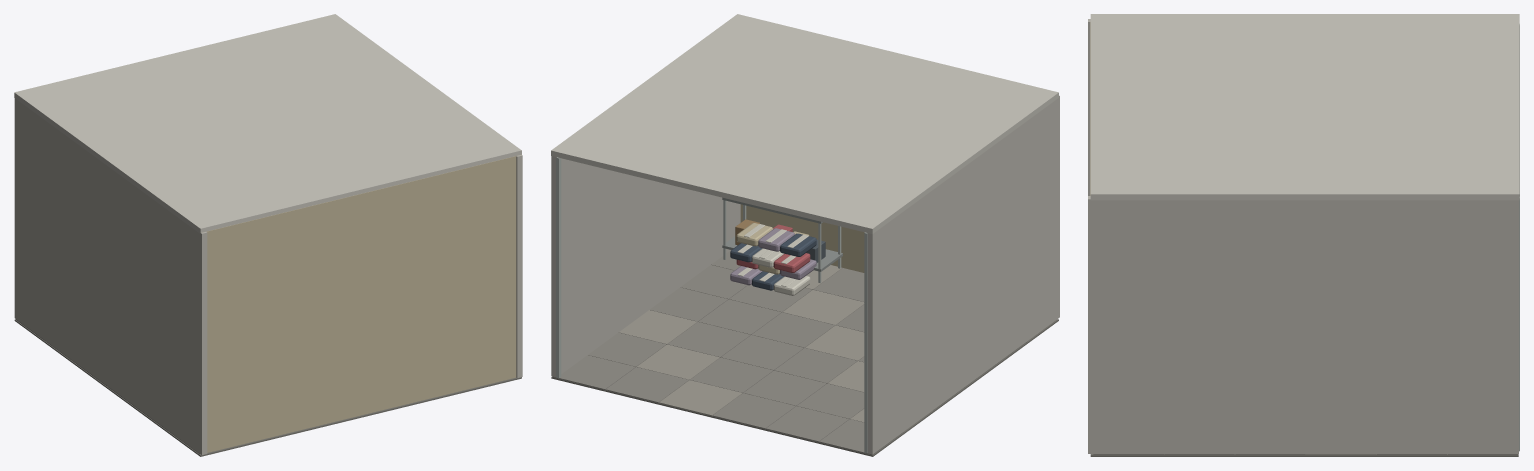
File: banShell.glb
3 renders of one model, left to right at view 1: azimuth 30°, elevation 25°; view 2: azimuth 150°, elevation 25°; view 3: azimuth 270°, elevation 25°, orthographic. The views are drawn at different scales.
Visible parts, largest first — view 1: 실내 조명 베이크용 banShell; view 2: 실내 조명 베이크용 banShell; view 3: 실내 조명 베이크용 banShell.
Boxes of the visible parts, left/top/right/bottom form: 실내 조명 베이크용 banShell: left=14, top=14, right=522, bottom=456; 실내 조명 베이크용 banShell: left=551, top=14, right=1059, bottom=456; 실내 조명 베이크용 banShell: left=1088, top=14, right=1519, bottom=456.
Bounding box in the file's own units: 4.13 × 2.8 × 4.18.
